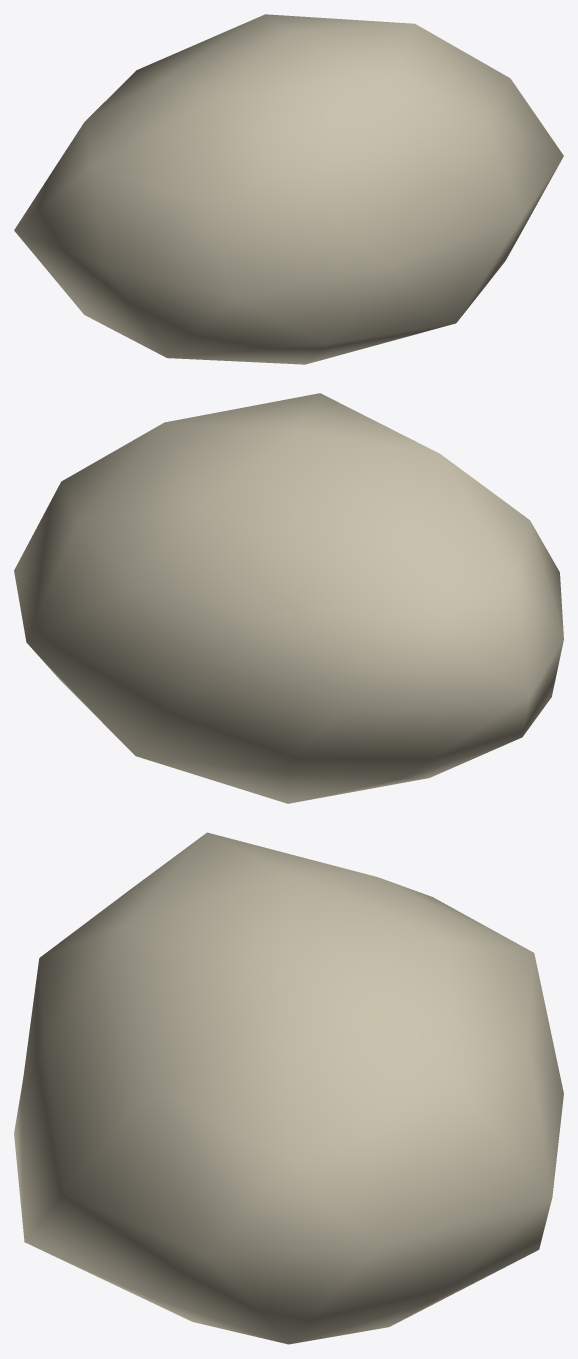
The model's file is SM_ShoreRock.fbx.
3 views of the same model, one above another, from view 1: azimuth 30°, elevation 25°; view 2: azimuth 150°, elevation 25°; view 3: azimuth 270°, elevation 25° (orthographic). The views are drawn at different scales.
Visible parts, largest first — view 1: SM_ShoreRock; view 2: SM_ShoreRock; view 3: SM_ShoreRock.
Boxes of the visible parts, x1=… form: SM_ShoreRock: x1=14, y1=14, x2=563, y2=364; SM_ShoreRock: x1=14, y1=393, x2=563, y2=803; SM_ShoreRock: x1=14, y1=832, x2=563, y2=1344.
Size of the model in its own units: 105 by 75.03 by 65.83.
